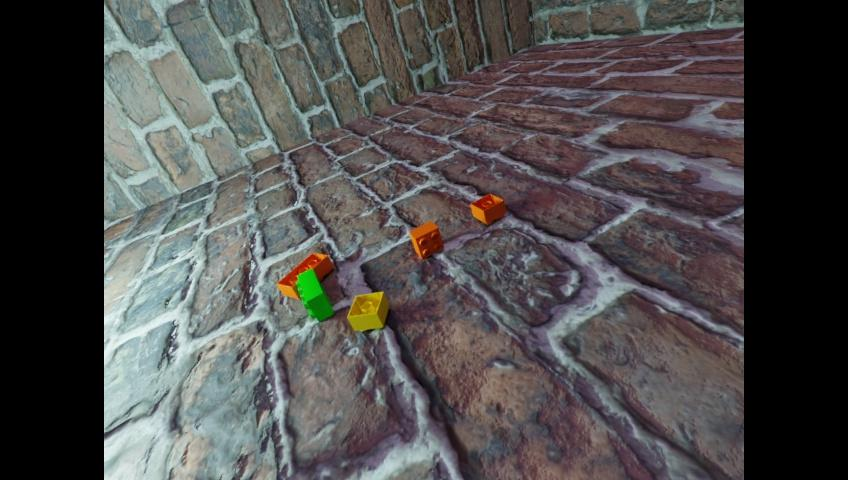2x2_orange: (409, 220, 443, 258), (470, 193, 505, 224)
2x2_yellow: (347, 291, 388, 330)
4x2_green: (297, 267, 333, 321)
4x2_orange: (276, 252, 332, 298)
